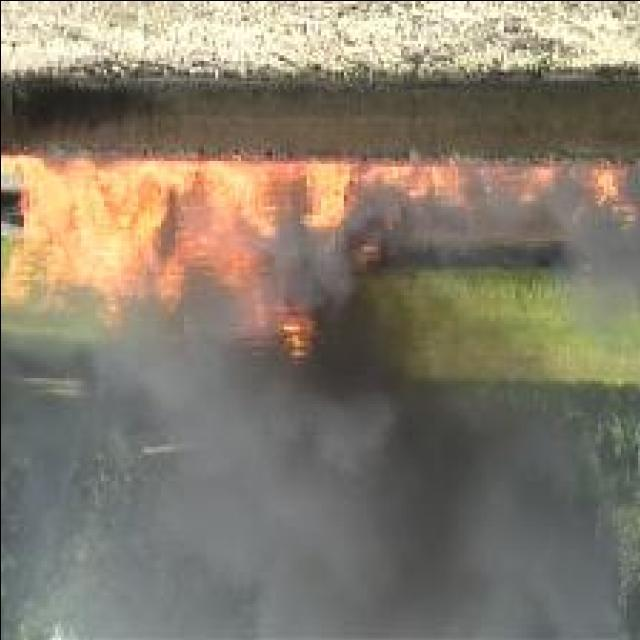Fire: (0, 154, 472, 357), (520, 164, 640, 230)
